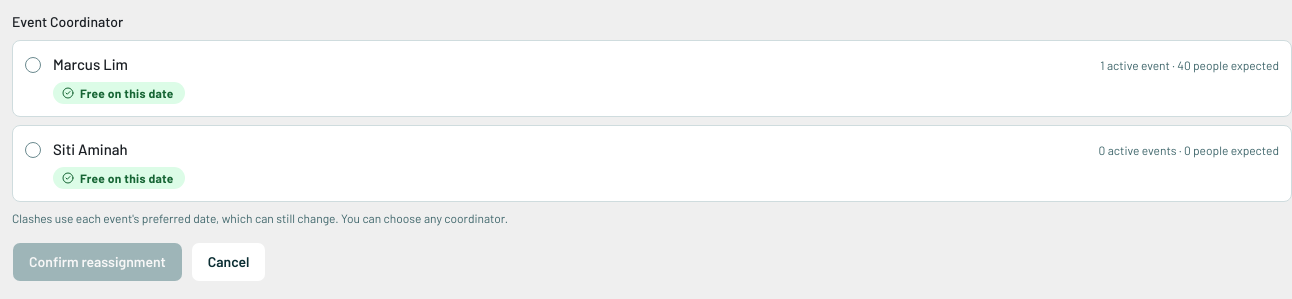
it: SCRUM-79 — Reassign an Event Coordinator › SCRUM-79/AC3 SCRUM-126/AC3 reassigns to the chosen coordinator on confirm and tells both coordinators
What coordinates should you click on to do the following:
click the radio button named "Siti Aminah" next to "Siti Aminah"
I would click on:
 (33, 150)
Its box is 25,142 -> 41,158.
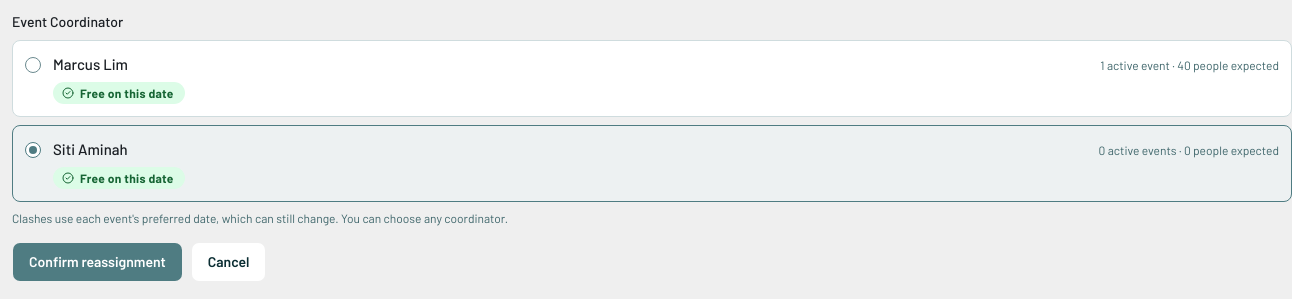
What coordinates should you click on to do the following:
click the button "Confirm reassignment"
I would click on:
 (97, 262)
Its box is 12,242 -> 183,282.
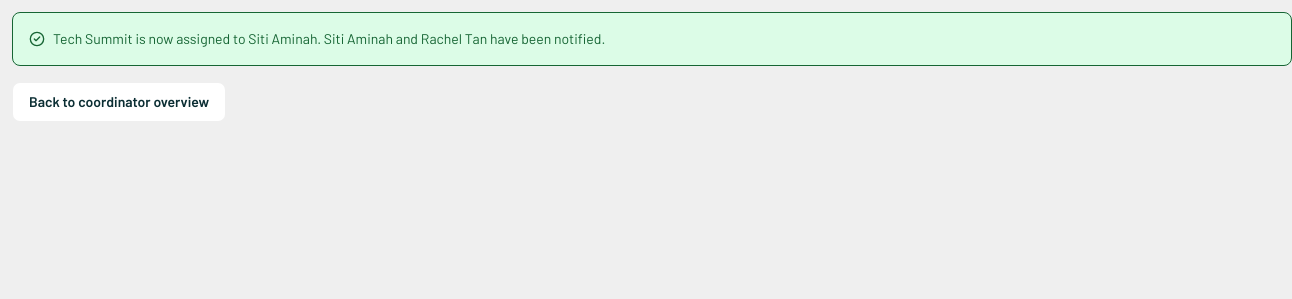
expect the message shows "Tech Summit is now assigned to Siti Aminah. Siti Aminah and Rachel Tan have been notified.": met, box 12,12 -> 1291,66
